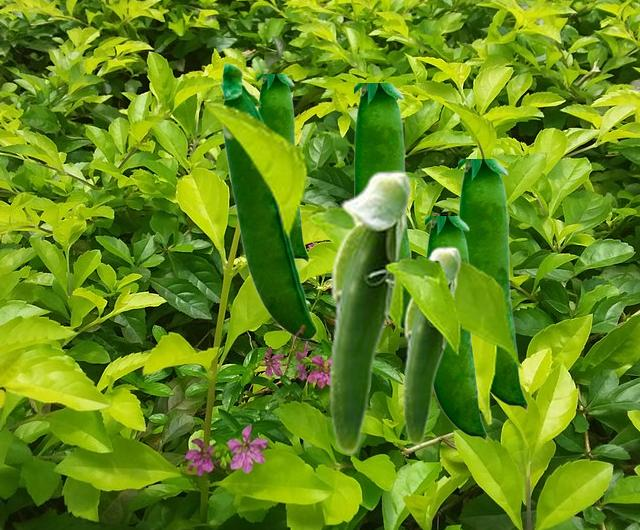pea: (219, 61, 316, 339), (328, 170, 412, 454), (458, 159, 527, 411), (354, 83, 412, 321), (425, 216, 486, 441), (402, 246, 461, 445), (257, 74, 308, 262)
